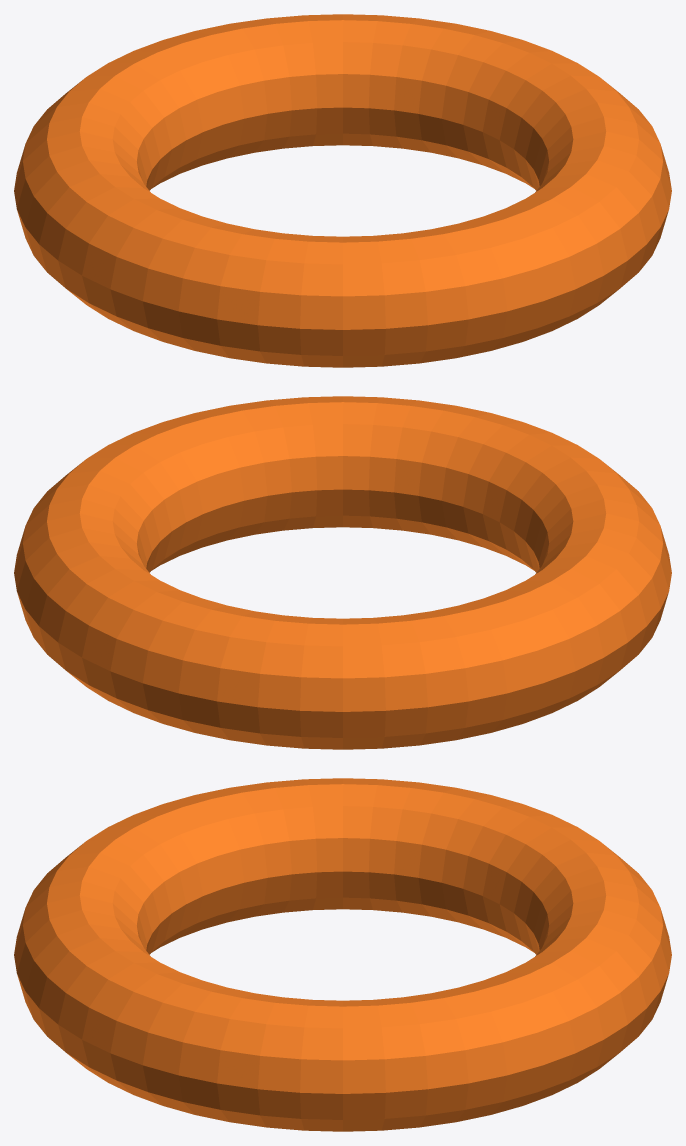
The model's file is wall.obj.
The picture shows the model from 3 angles, top to bottom: view 1: azimuth 30°, elevation 25°; view 2: azimuth 150°, elevation 25°; view 3: azimuth 270°, elevation 25°; orthographic projection.
Parts seen in each view (by area): view 1: トーラス; view 2: トーラス; view 3: トーラス.
Boxes of the visible parts, left/top/right/bottom form: トーラス: left=14, top=14, right=671, bottom=367; トーラス: left=14, top=396, right=671, bottom=749; トーラス: left=14, top=778, right=671, bottom=1131.
Bounding box in the file's own units: 125 × 25 × 125.
Materials: 1 (1 with a texture image).
